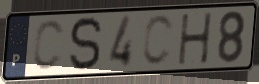4: (107, 12, 136, 72)
8: (215, 9, 247, 66)
C: (140, 13, 176, 69), (31, 18, 67, 74)
H: (177, 10, 215, 67)
S: (68, 14, 104, 74)
